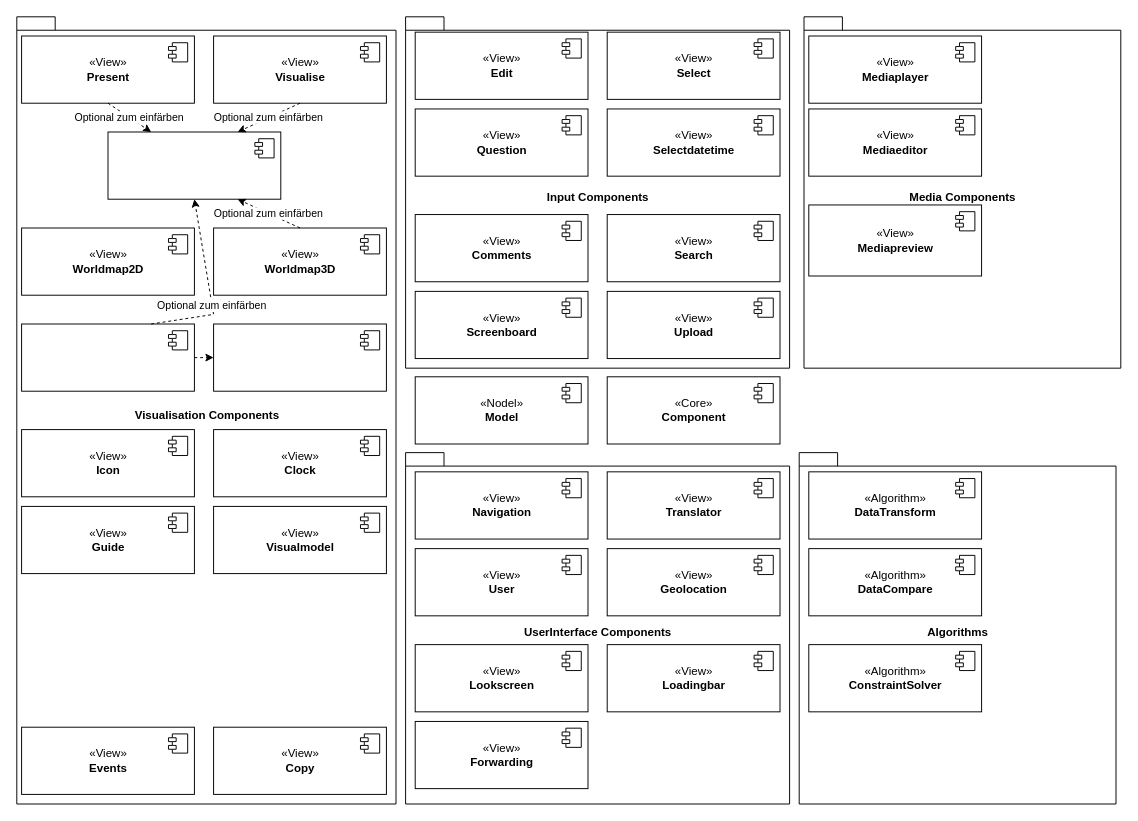
Some shapes in this 1138 by 821 pixel diagram are drawn without their labels. Each missing label, with the centre of its shape:
"«View» Charts" belongs at (x=107, y=357).
"«View» Datadescription" belongs at (x=194, y=165).
"«View» Datafilter" belongs at (x=299, y=357).
